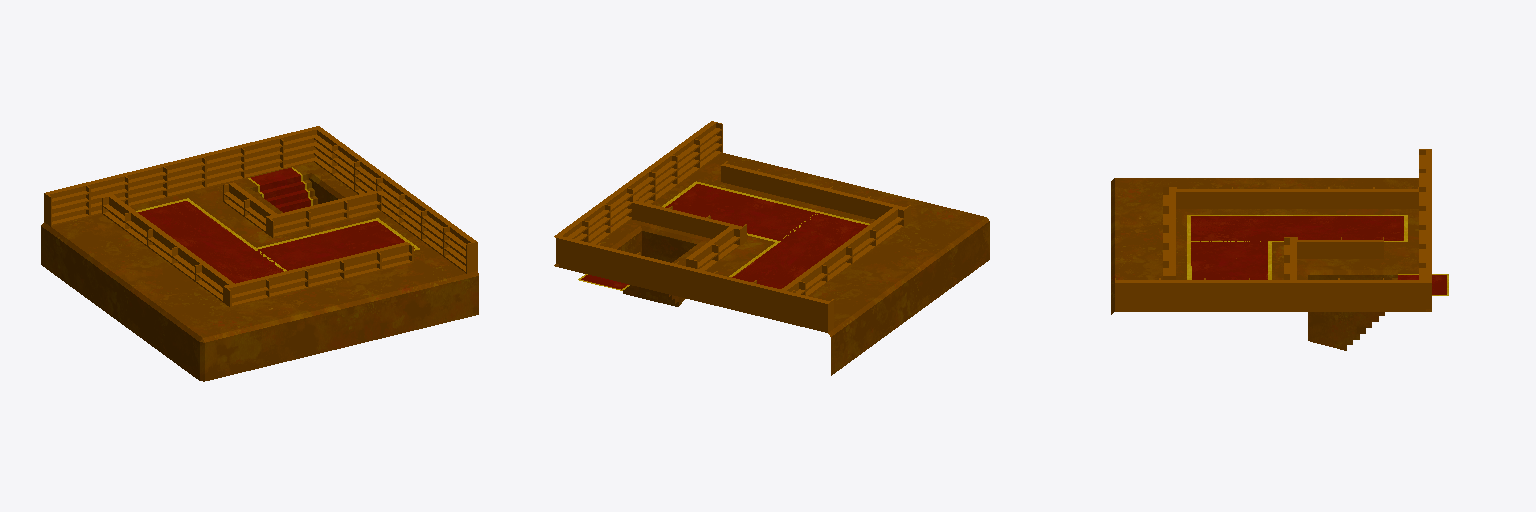
3 views of the same model, side by side, from view 1: azimuth 30°, elevation 25°; view 2: azimuth 150°, elevation 25°; view 3: azimuth 270°, elevation 25° (orthographic).
Visible parts, largest first — view 1: Cube.096, Cube.097, Plane.040, Cube.098, Cube.100, Cube.102, Cube.103, Plane.038, Plane.039, Cube.101; view 2: Cube.096, Cube.097, Plane.040, Cube.098, Cube.100, Cube.102, Cube.103, Cube.101, Plane.039; view 3: Cube.096, Cube.098, Cube.102, Plane.039, Plane.040, Cube.097, Cube.101, Cube.100, Cube.103.
Boxes of the visible parts, x1,y1,x2,y2 form: Cube.096: [41, 162, 478, 381]; Cube.097: [44, 127, 316, 226]; Plane.040: [138, 199, 419, 283]; Cube.098: [314, 128, 477, 273]; Cube.100: [224, 242, 413, 307]; Cube.102: [102, 195, 234, 302]; Cube.103: [267, 190, 381, 237]; Plane.038: [248, 167, 312, 212]; Plane.039: [136, 198, 286, 282]; Cube.101: [223, 182, 276, 233]; Cube.096: [554, 153, 989, 375]; Cube.097: [559, 236, 833, 332]; Plane.040: [662, 181, 867, 288]; Cube.098: [556, 121, 722, 263]; Cube.100: [721, 161, 910, 226]; Cube.102: [781, 207, 903, 295]; Cube.103: [632, 198, 746, 244]; Cube.101: [686, 227, 740, 270]; Plane.039: [730, 211, 869, 288]; Cube.096: [1111, 178, 1431, 350]; Cube.098: [1115, 278, 1425, 311]; Cube.102: [1176, 187, 1418, 208]; Plane.039: [1187, 215, 1407, 241]; Plane.040: [1187, 216, 1403, 279]; Cube.097: [1419, 149, 1431, 308]; Cube.101: [1297, 237, 1383, 258]; Cube.100: [1163, 187, 1175, 279]; Cube.103: [1284, 237, 1296, 279].
Bounding box in the file's own units: 100 × 28 × 105.
Materials: 1 (1 with a texture image).